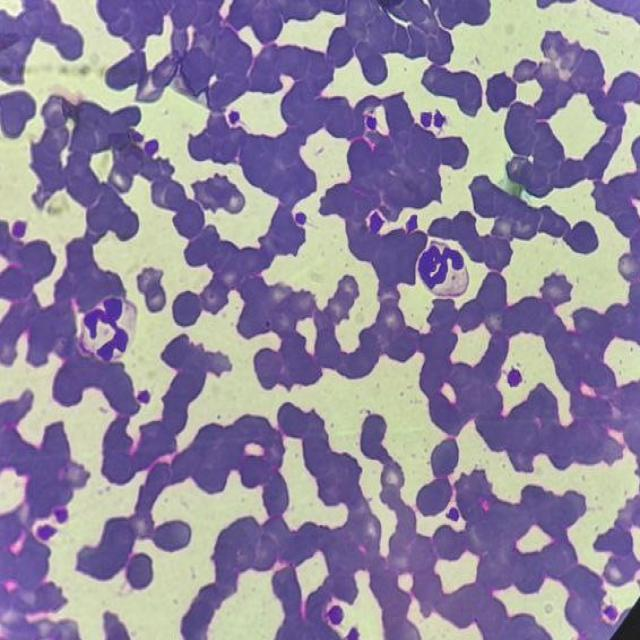Neutrofilo: (77, 296, 136, 365), (412, 236, 474, 301)
